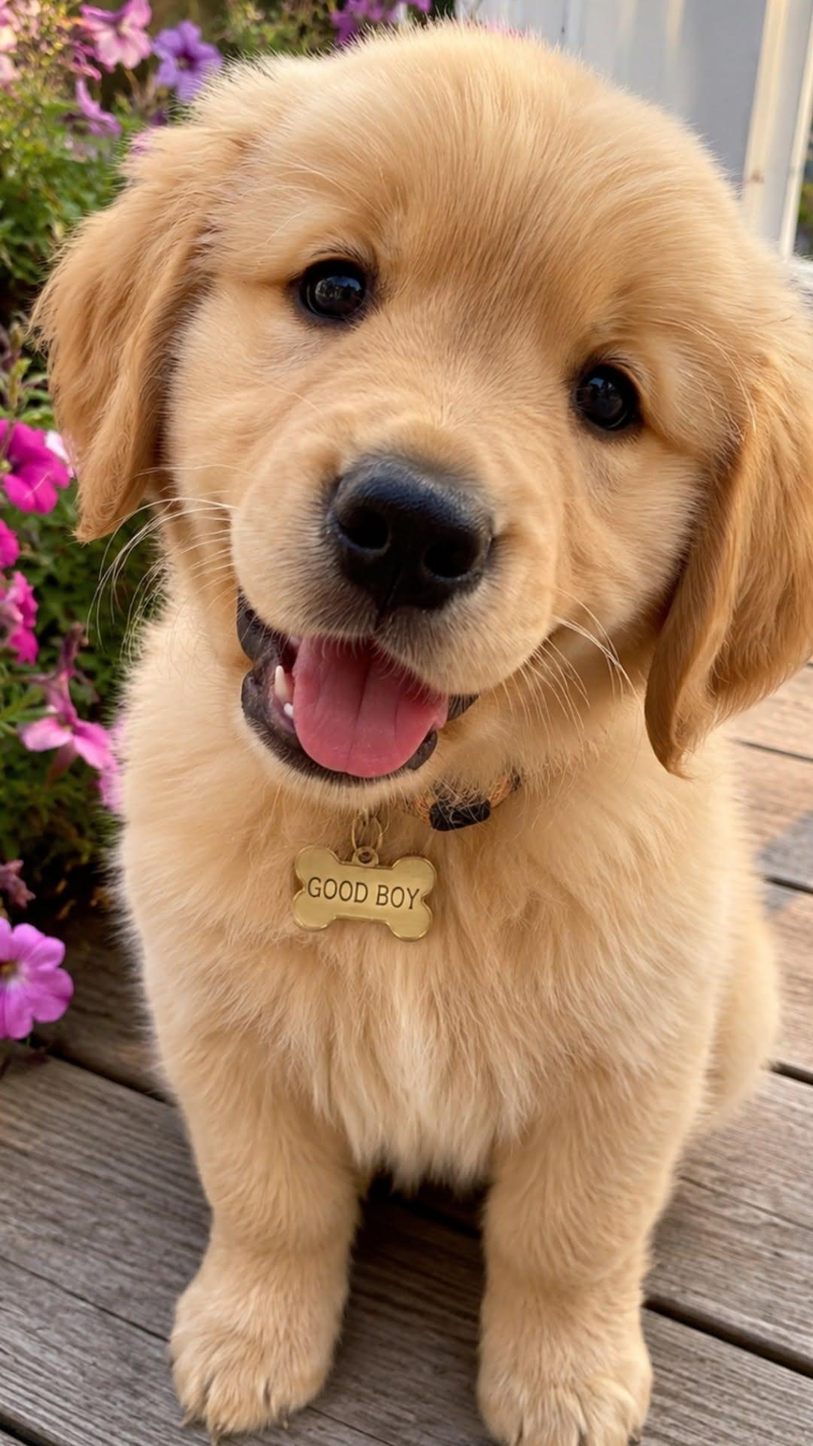puppy-dog: (25, 18, 813, 1446)
